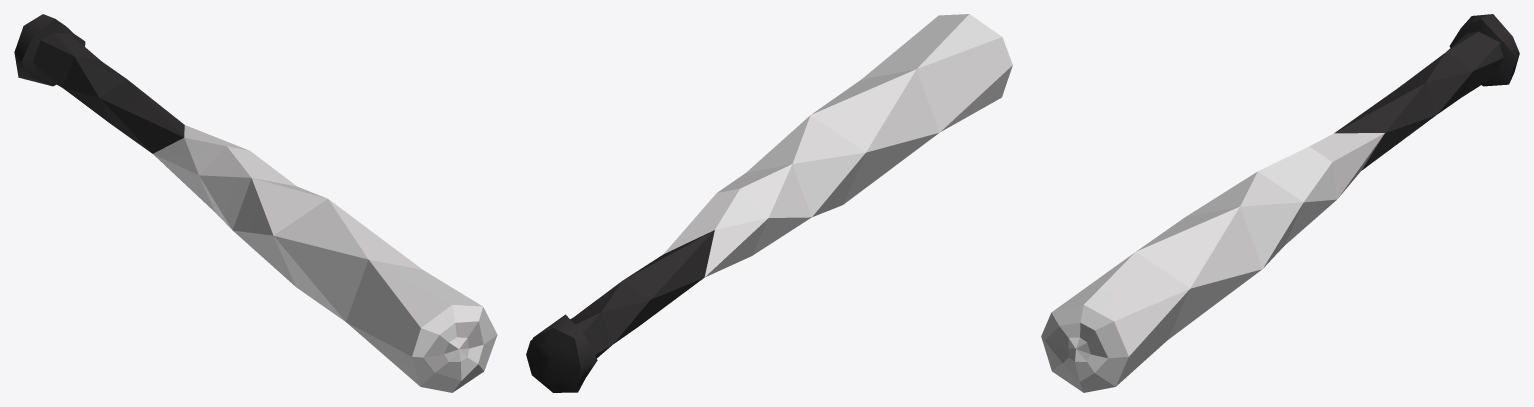
Rendered from arme_batte.fbx.
3 renders of one model, left to right at view 1: azimuth 30°, elevation 25°; view 2: azimuth 150°, elevation 25°; view 3: azimuth 330°, elevation 25°, orthographic.
Parts seen in each view (by area): view 1: Cylinder033; view 2: Cylinder033; view 3: Cylinder033.
Boxes of the visible parts, <box> form: Cylinder033: <box>14,14,497,392</box>; Cylinder033: <box>526,14,1012,392</box>; Cylinder033: <box>1041,14,1519,392</box>.
Size of the model in its own units: 14.89 by 14.48 by 126.
